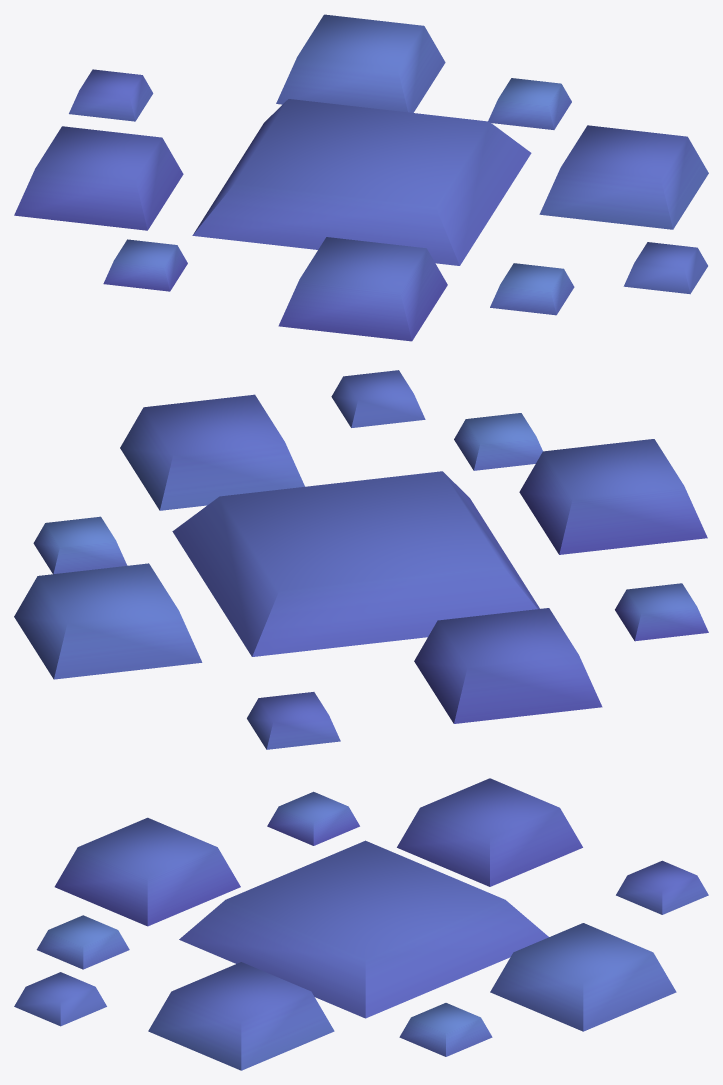
Rendered from pedra baixa azul.glb.
3 views of the same model, one above another, from view 1: azimuth 30°, elevation 25°; view 2: azimuth 150°, elevation 25°; view 3: azimuth 270°, elevation 25° (orthographic). The views are drawn at different scales.
Parts seen in each view (by area): view 1: stones; view 2: stones; view 3: stones.
Boxes of the visible parts, x1,y1,x2,y2 form: stones: (14,14,708,341); stones: (14,370,708,749); stones: (14,778,708,1070).
Size of the model in its own units: 0.7102 by 0.05 by 0.7897.
Materials: 1 (1 with a texture image).
